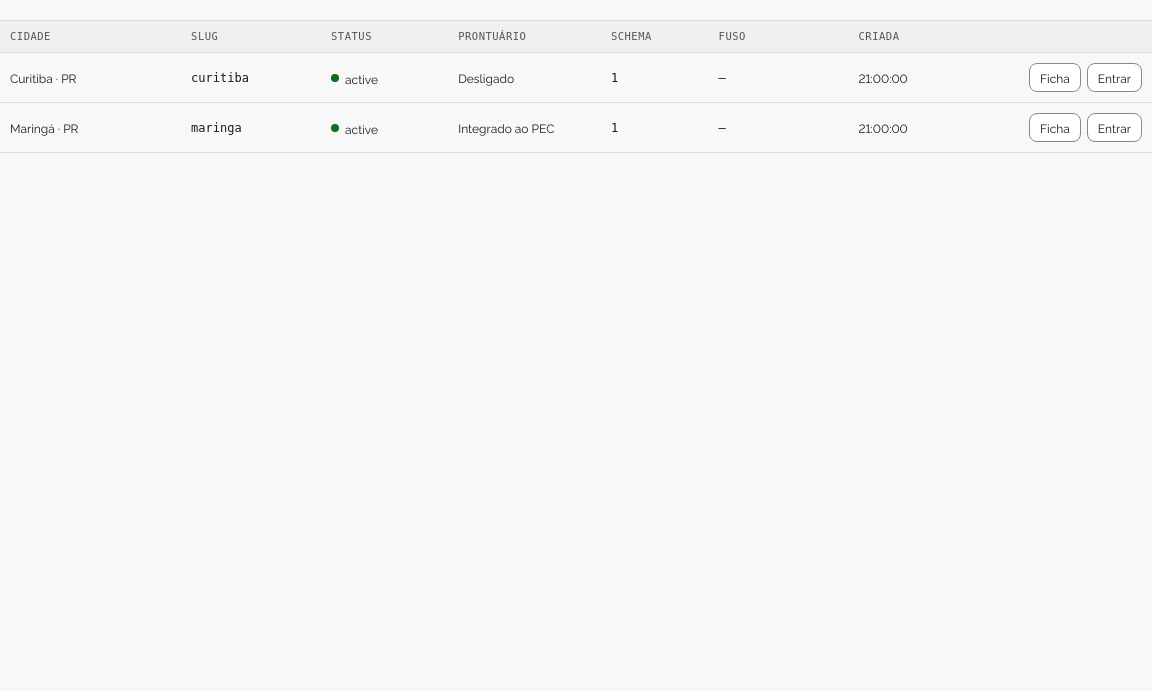
Test: City record (read-only switches) › opens the record of the chosen city with its switches, read-only
The image size is (1152, 691).
Click the button with aria-label "Ficha de Curitiba" at (1055,78), box [1029,63,1081,92]
(page scrolled)
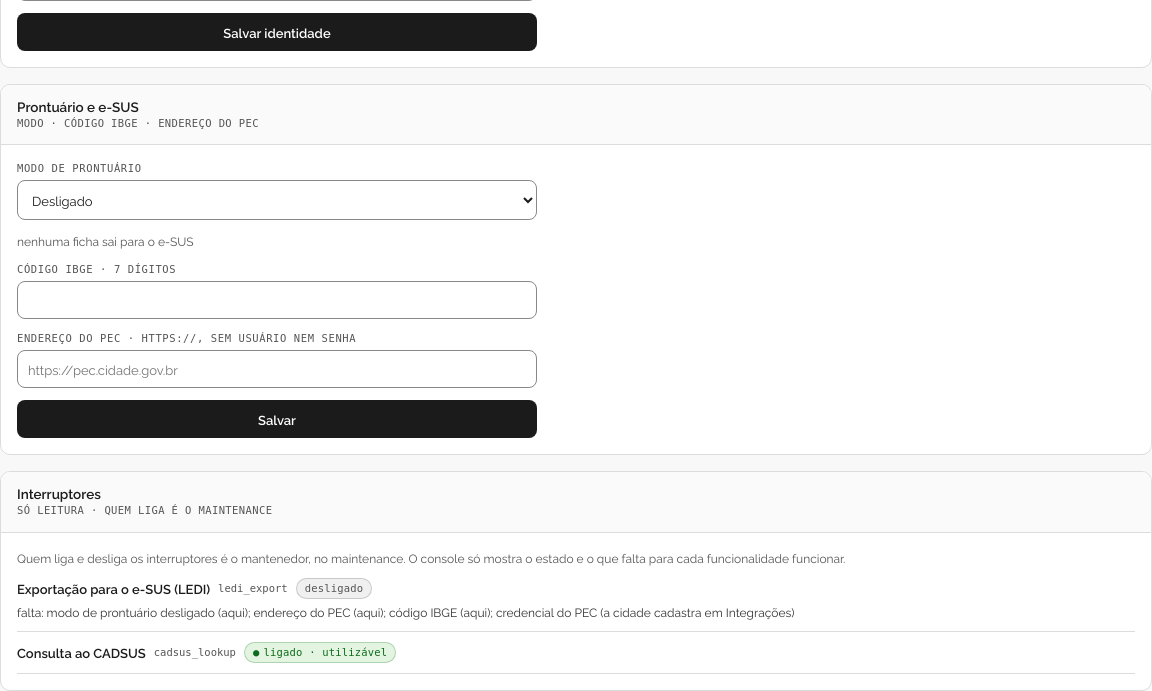
Now the list item "Exportação para o e-SUS (LEDI)" shows "desligado", box [305,582,363,594]
Now the list item "Consulta ao CADSUS" shows "ligado · utilizável", box [264,646,387,658]
Now the text "Quem liga e desliga os interruptores é o mantenedor, no maintenance" is shown, box [17,549,845,566]
